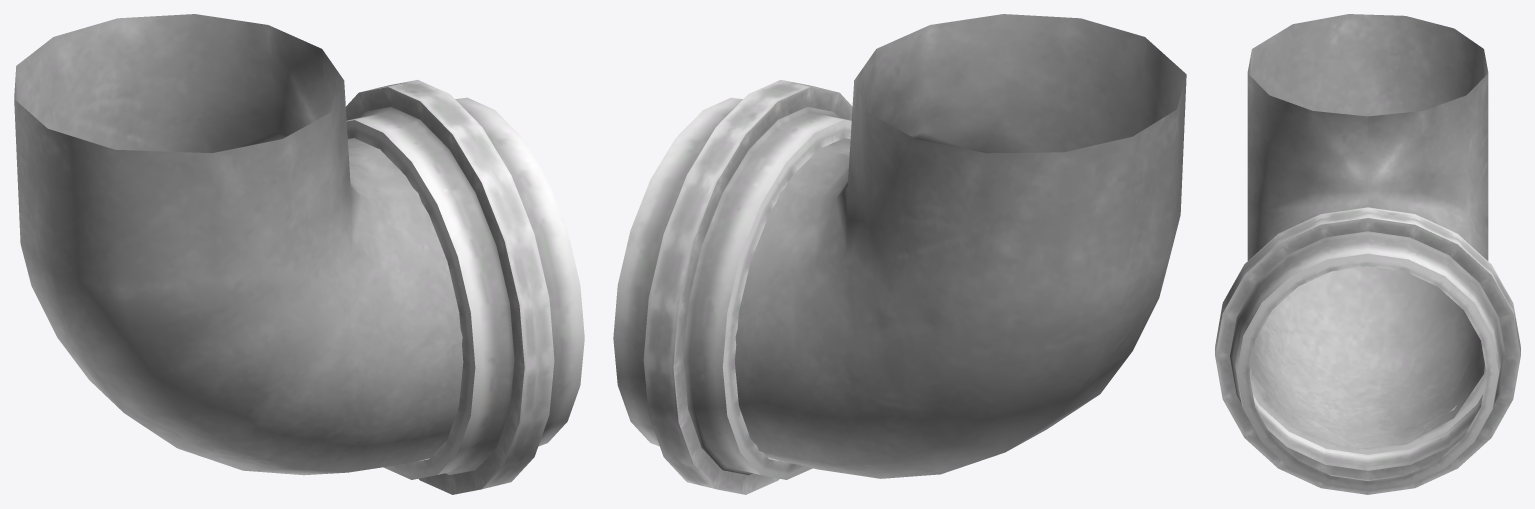
File: SM_Pipes_03l.glb
The picture shows the model from 3 angles, left to right: view 1: azimuth 30°, elevation 25°; view 2: azimuth 150°, elevation 25°; view 3: azimuth 270°, elevation 25°; orthographic projection. The views are drawn at different scales.
Visible parts, largest first — view 1: SM_Pipes_03l; view 2: SM_Pipes_03l; view 3: SM_Pipes_03l.
Part boxes in pixels (x1,y1,x2,y2): SM_Pipes_03l: (14, 14, 584, 494); SM_Pipes_03l: (613, 14, 1186, 494); SM_Pipes_03l: (1215, 14, 1520, 494).
Bounding box in the file's own units: 0.2269 × 0.213 × 0.1773.
Materials: 1 (1 with a texture image).
